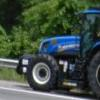Tractor: (16, 20, 100, 96)
